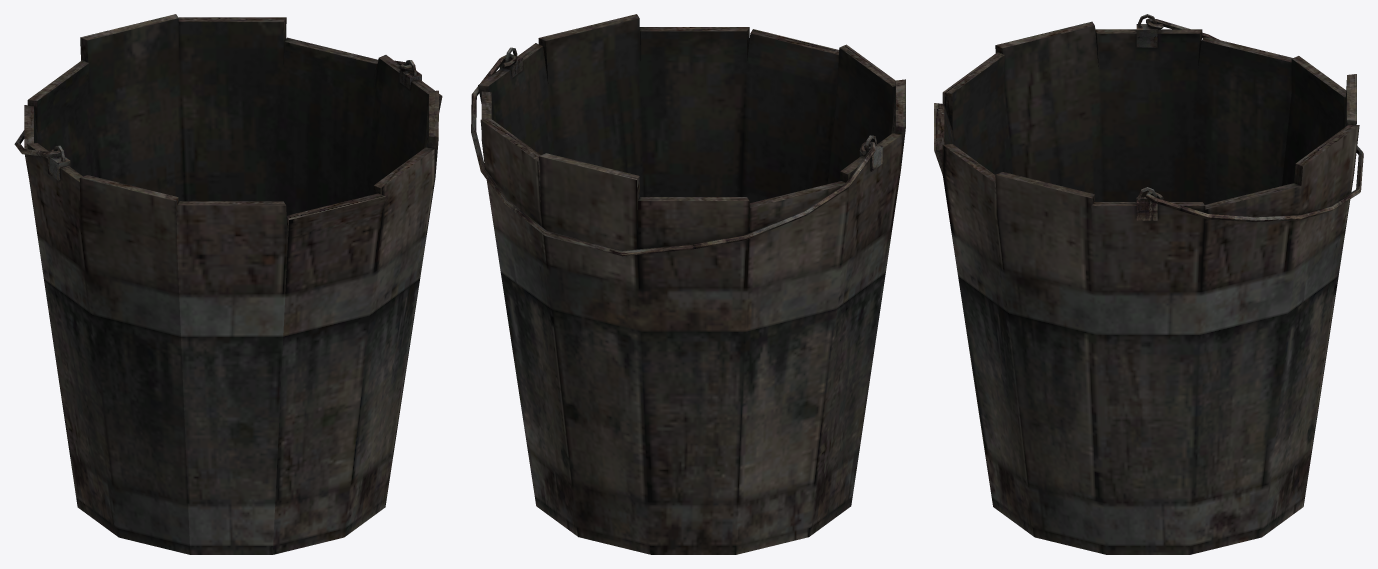
Rendered from Bucket_wood.fbx.
3 views of the same model, side by side, from view 1: azimuth 30°, elevation 25°; view 2: azimuth 150°, elevation 25°; view 3: azimuth 270°, elevation 25° (orthographic). The views are drawn at different scales.
Parts seen in each view (by area): view 1: Circle_027; view 2: Circle_027; view 3: Circle_027.
Part boxes in pixels (x1,y1,x2,y2): Circle_027: (14,14,442,554); Circle_027: (471,14,905,554); Circle_027: (934,14,1363,554).
Bounding box in the file's own units: 2.77 × 2.78 × 2.77.
